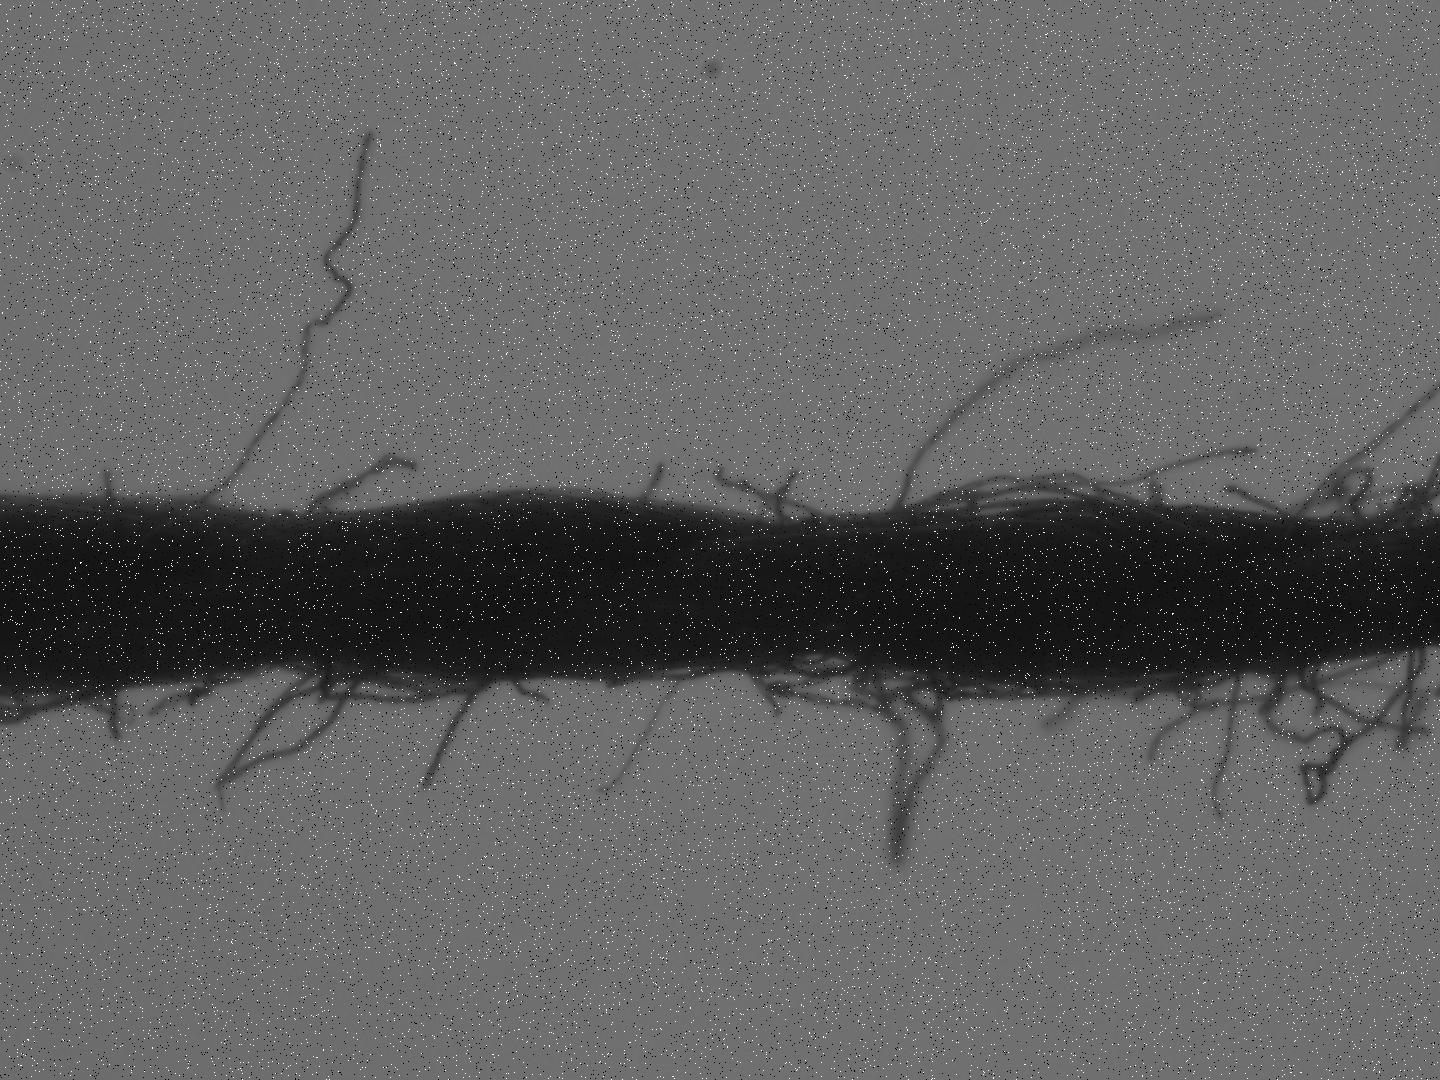loop_fiber: (765, 653, 942, 852), (1257, 648, 1424, 809), (896, 464, 1169, 531), (219, 664, 359, 787), (718, 464, 848, 533), (142, 663, 270, 726), (315, 667, 497, 710), (1284, 463, 1380, 537), (66, 678, 137, 749), (1379, 475, 1437, 534)
protruding_fiber: (163, 127, 380, 530), (414, 674, 503, 798), (1206, 668, 1244, 834)
